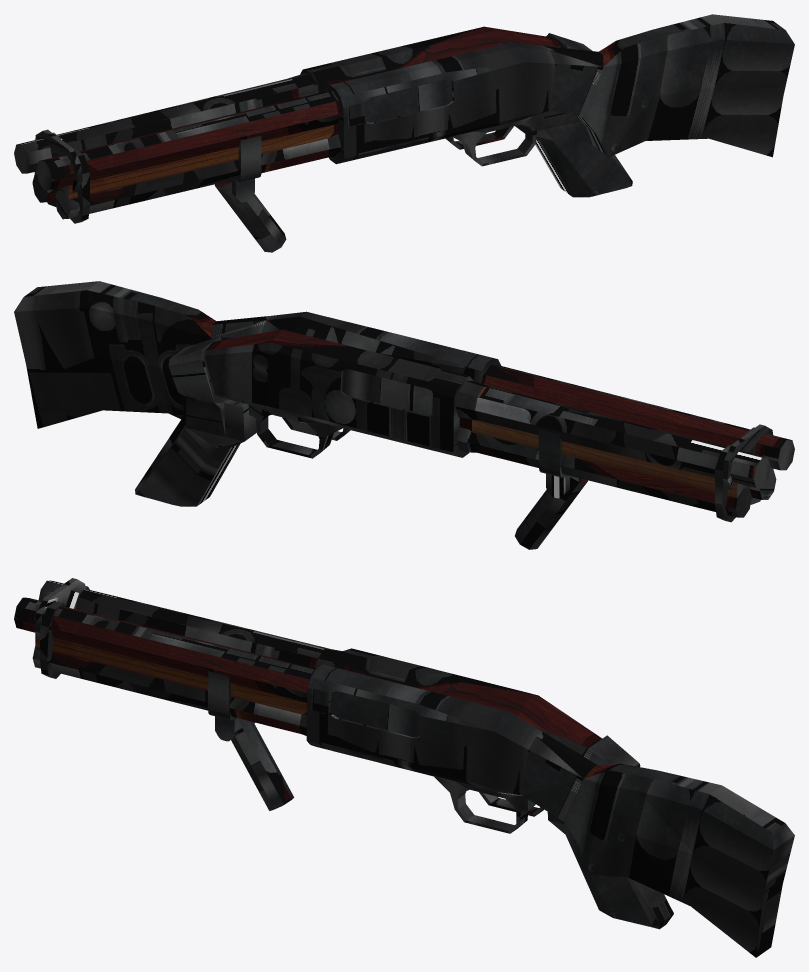
The picture shows the model from 3 angles, top to bottom: view 1: azimuth 30°, elevation 25°; view 2: azimuth 150°, elevation 25°; view 3: azimuth 330°, elevation 25°; orthographic projection. The views are drawn at different scales.
Parts seen in each view (by area): view 1: md5mesh; view 2: md5mesh; view 3: md5mesh.
Boxes of the visible parts, left/top/right/bottom form: md5mesh: left=14, top=14, right=794, bottom=252; md5mesh: left=14, top=281, right=794, bottom=549; md5mesh: left=14, top=578, right=794, bottom=957.
Bounding box in the file's own units: 7.63 × 1.89 × 0.8612.
